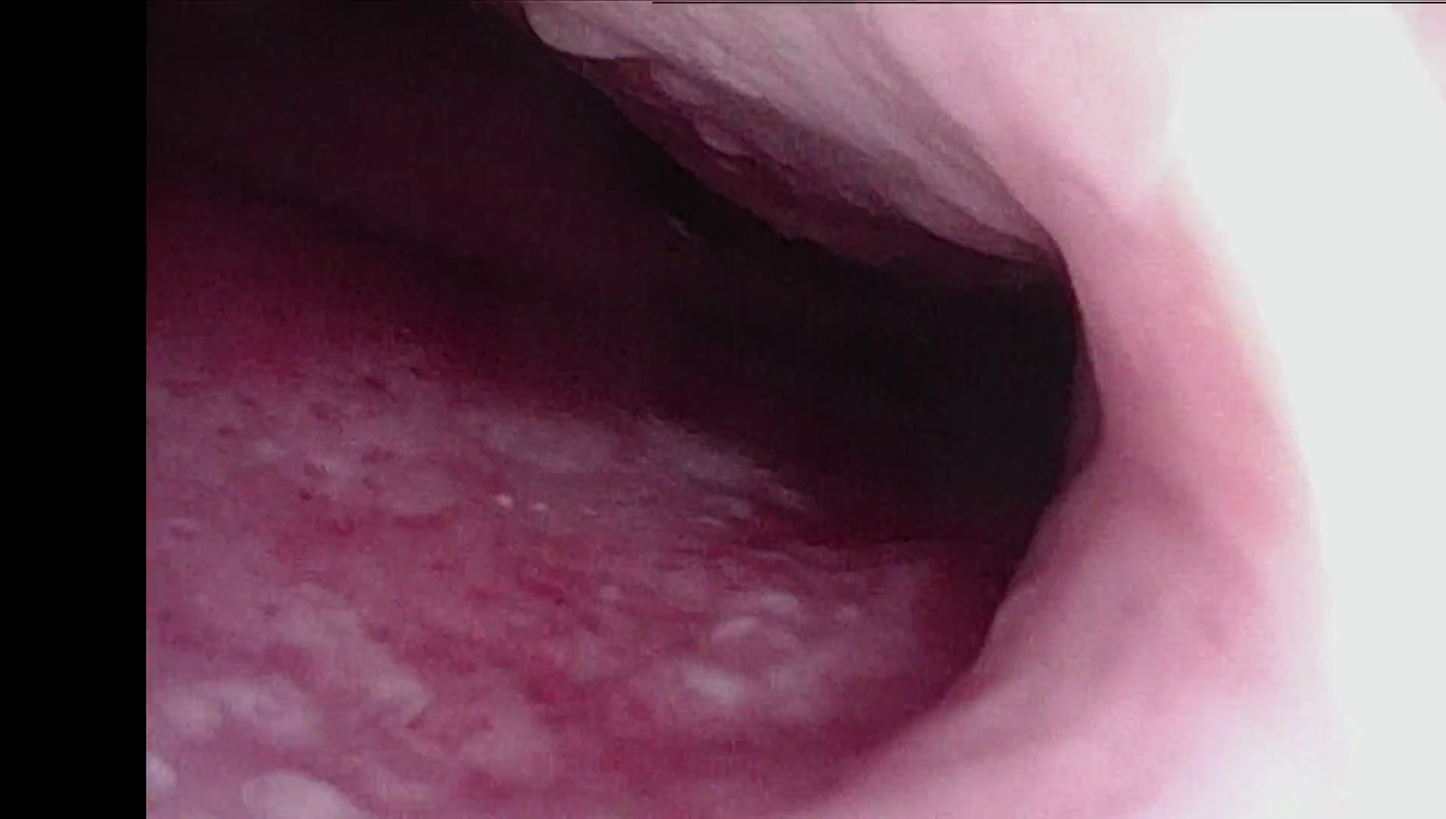close_wall: (1063, 5, 1446, 819)
next: (679, 180, 1092, 596)
